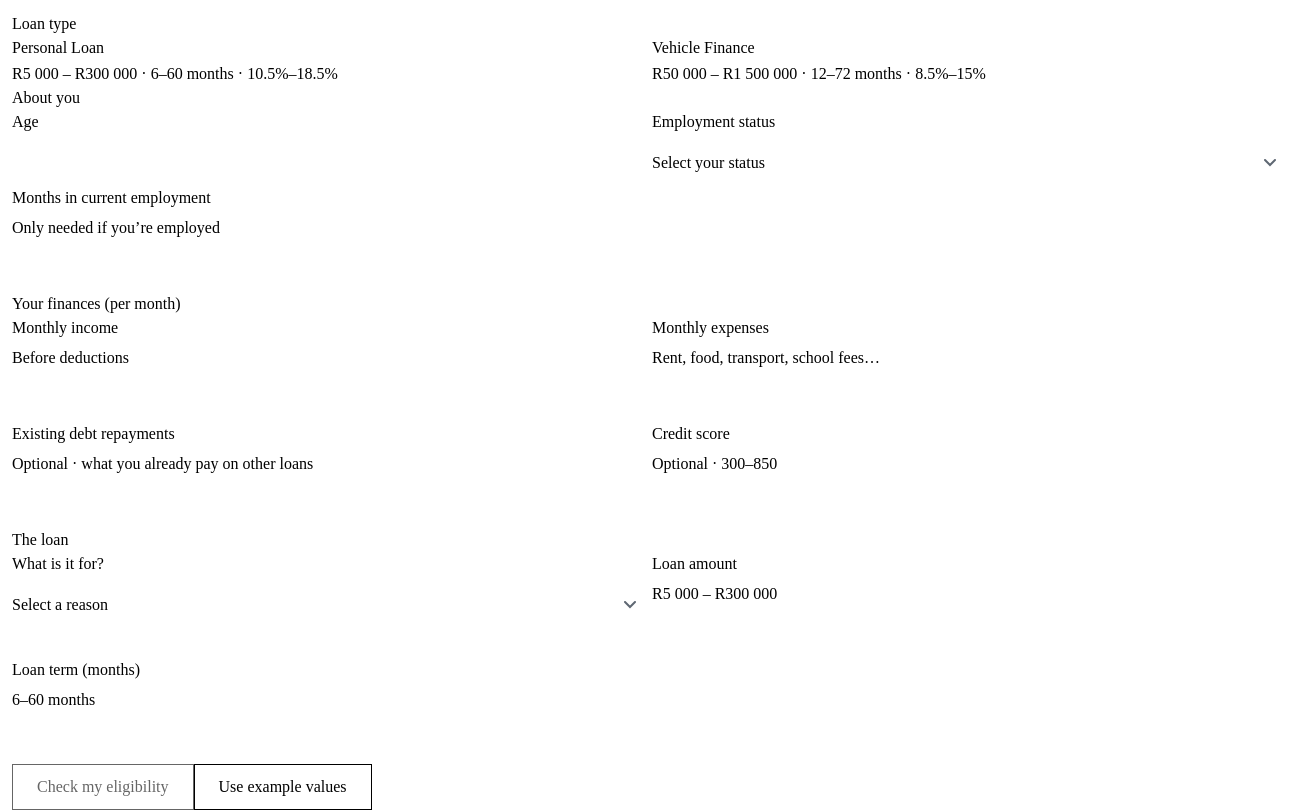
Scenario: LoanForm › disables the button again if a required field is cleared
Click the button "Use example values".
click(282, 787)  # box [194,764,372,810]
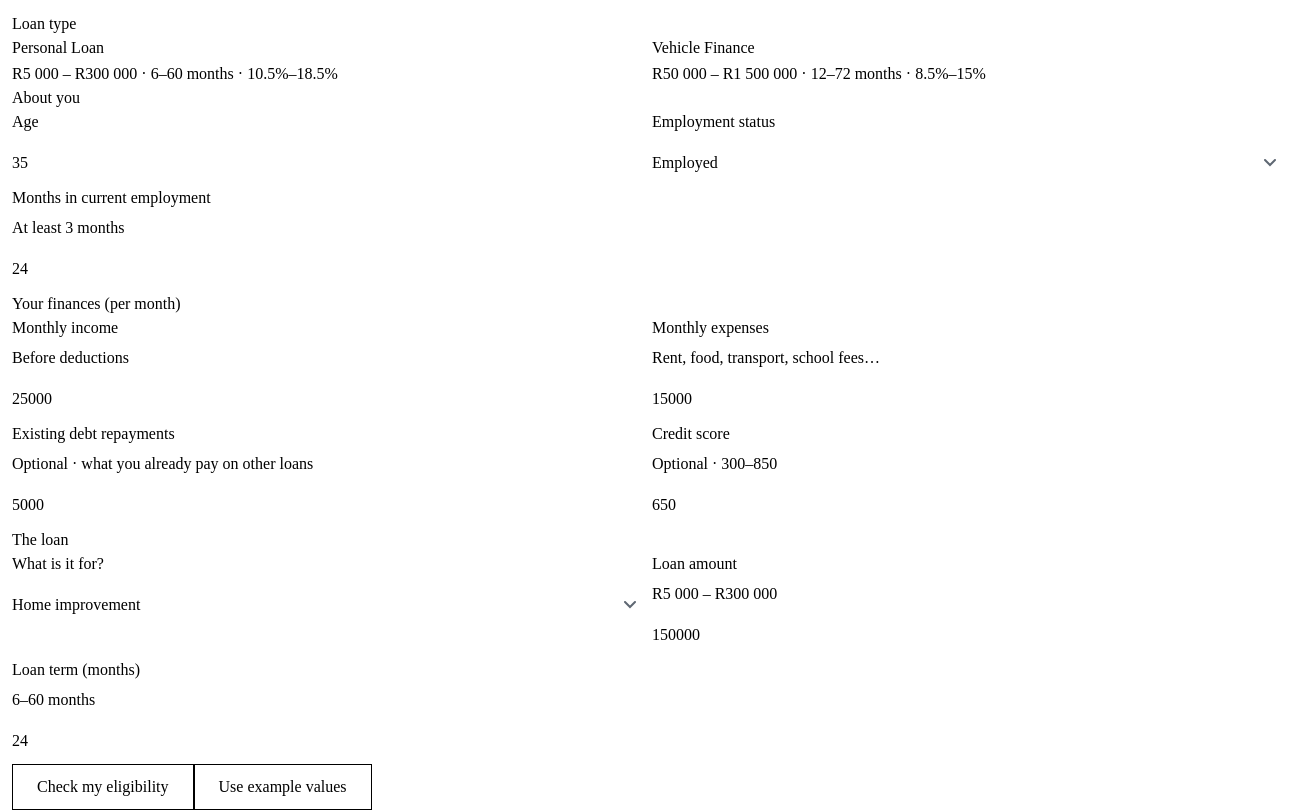
expect the button "Check my eligibility" is enabled: met, box [12,764,194,810]
Clear the field labelled "Monthly income" at (332, 399), box [12,376,652,422]
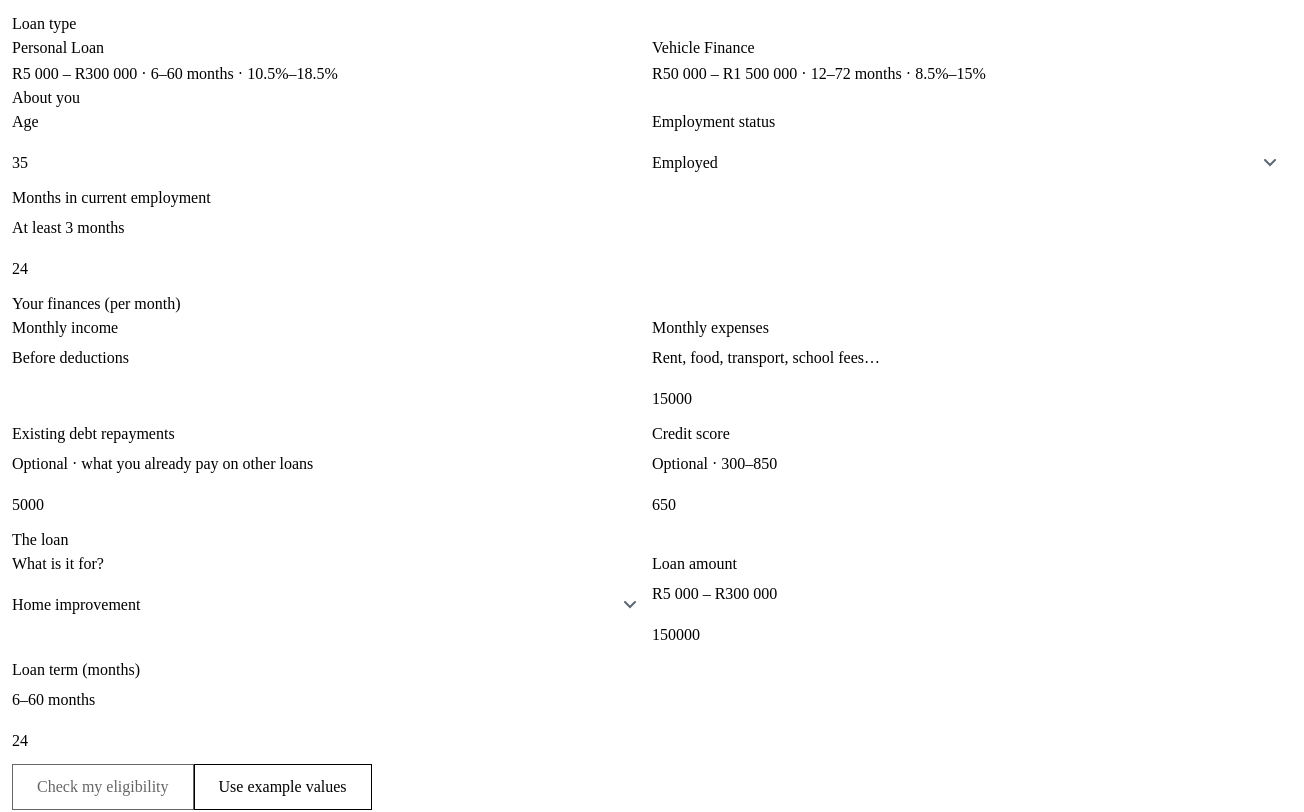
expect the button "Check my eligibility" is disabled: met, box [12,764,194,810]
